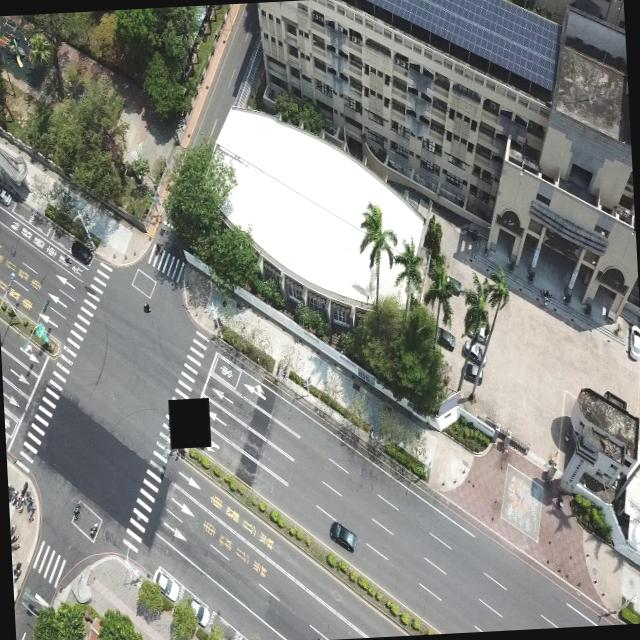bike: (72, 501, 82, 521), (88, 523, 98, 538)
car: (152, 558, 180, 605), (329, 520, 358, 554), (188, 594, 211, 628), (627, 314, 640, 365), (70, 240, 93, 266), (437, 325, 456, 352), (0, 186, 12, 206)
